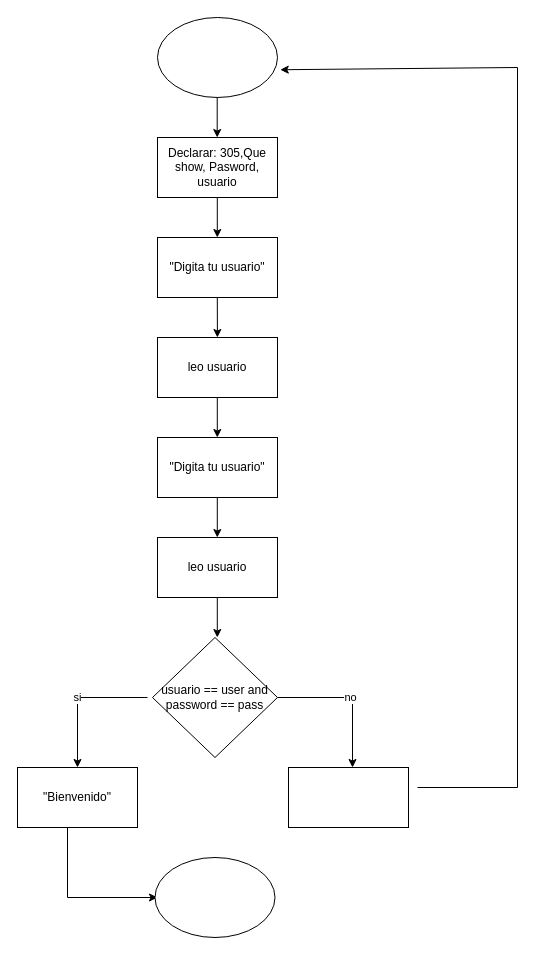
Image size: 543x955. Some labels were removed from this diagram. The shapes that lost their labels are listed below. From the top down, each one's centre as x and y in pixels, then its label:
(217,57): inicio
(348,797): "¿Que haces aqui?
(214,897): Fin
